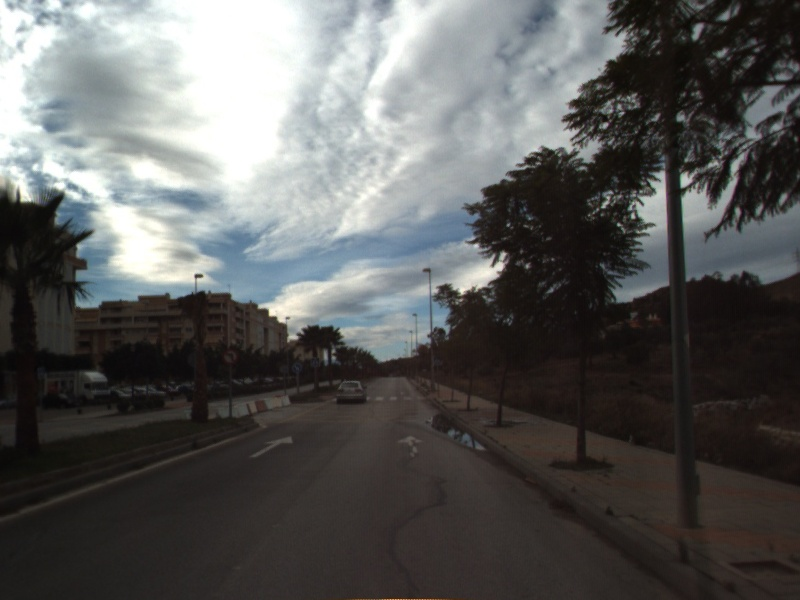STRAIGHT: (247, 434, 295, 459), (395, 433, 426, 460)
